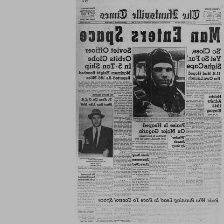news_paper: (70, 0, 224, 224)
